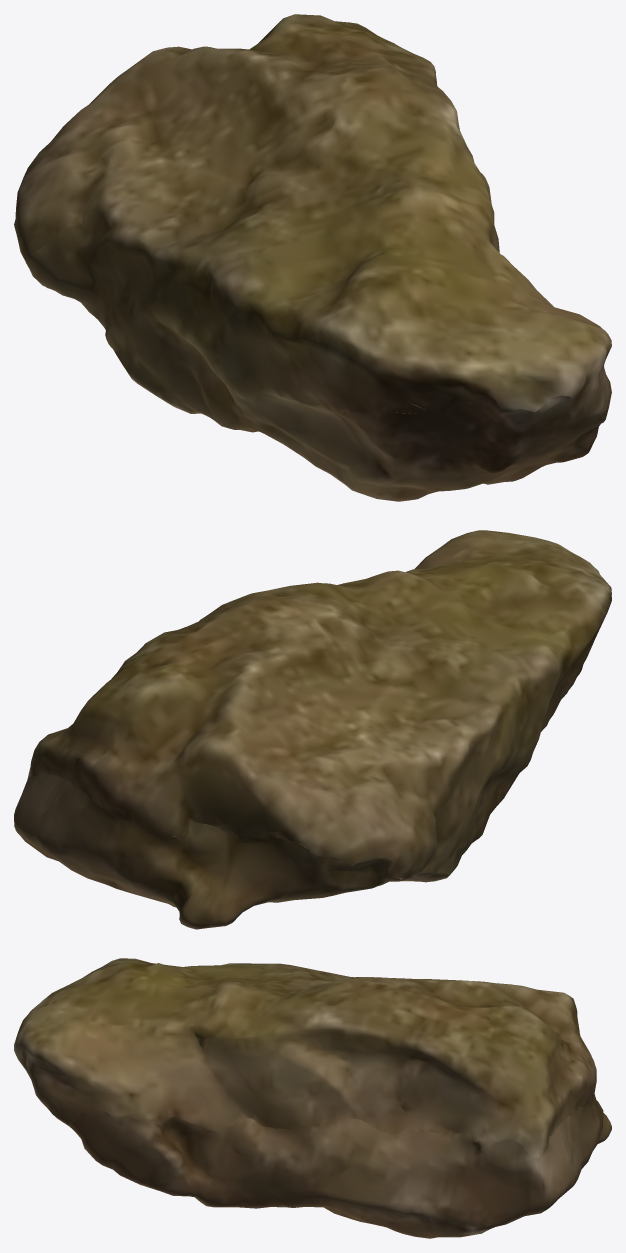
File: GardenRock.glb
3 renders of one model, top to bottom at view 1: azimuth 30°, elevation 25°; view 2: azimuth 150°, elevation 25°; view 3: azimuth 270°, elevation 25°, orthographic. The views are drawn at different scales.
Parts seen in each view (by area): view 1: rock_moss_set_01_rock05; view 2: rock_moss_set_01_rock05; view 3: rock_moss_set_01_rock05.
Part boxes in pixels (<box>): rock_moss_set_01_rock05: <box>14,14,611,501</box>; rock_moss_set_01_rock05: <box>14,530,611,929</box>; rock_moss_set_01_rock05: <box>14,958,611,1238</box>.
Size of the model in its own units: 2.04 by 1.35 by 3.36.
1 material, 1 textured.
